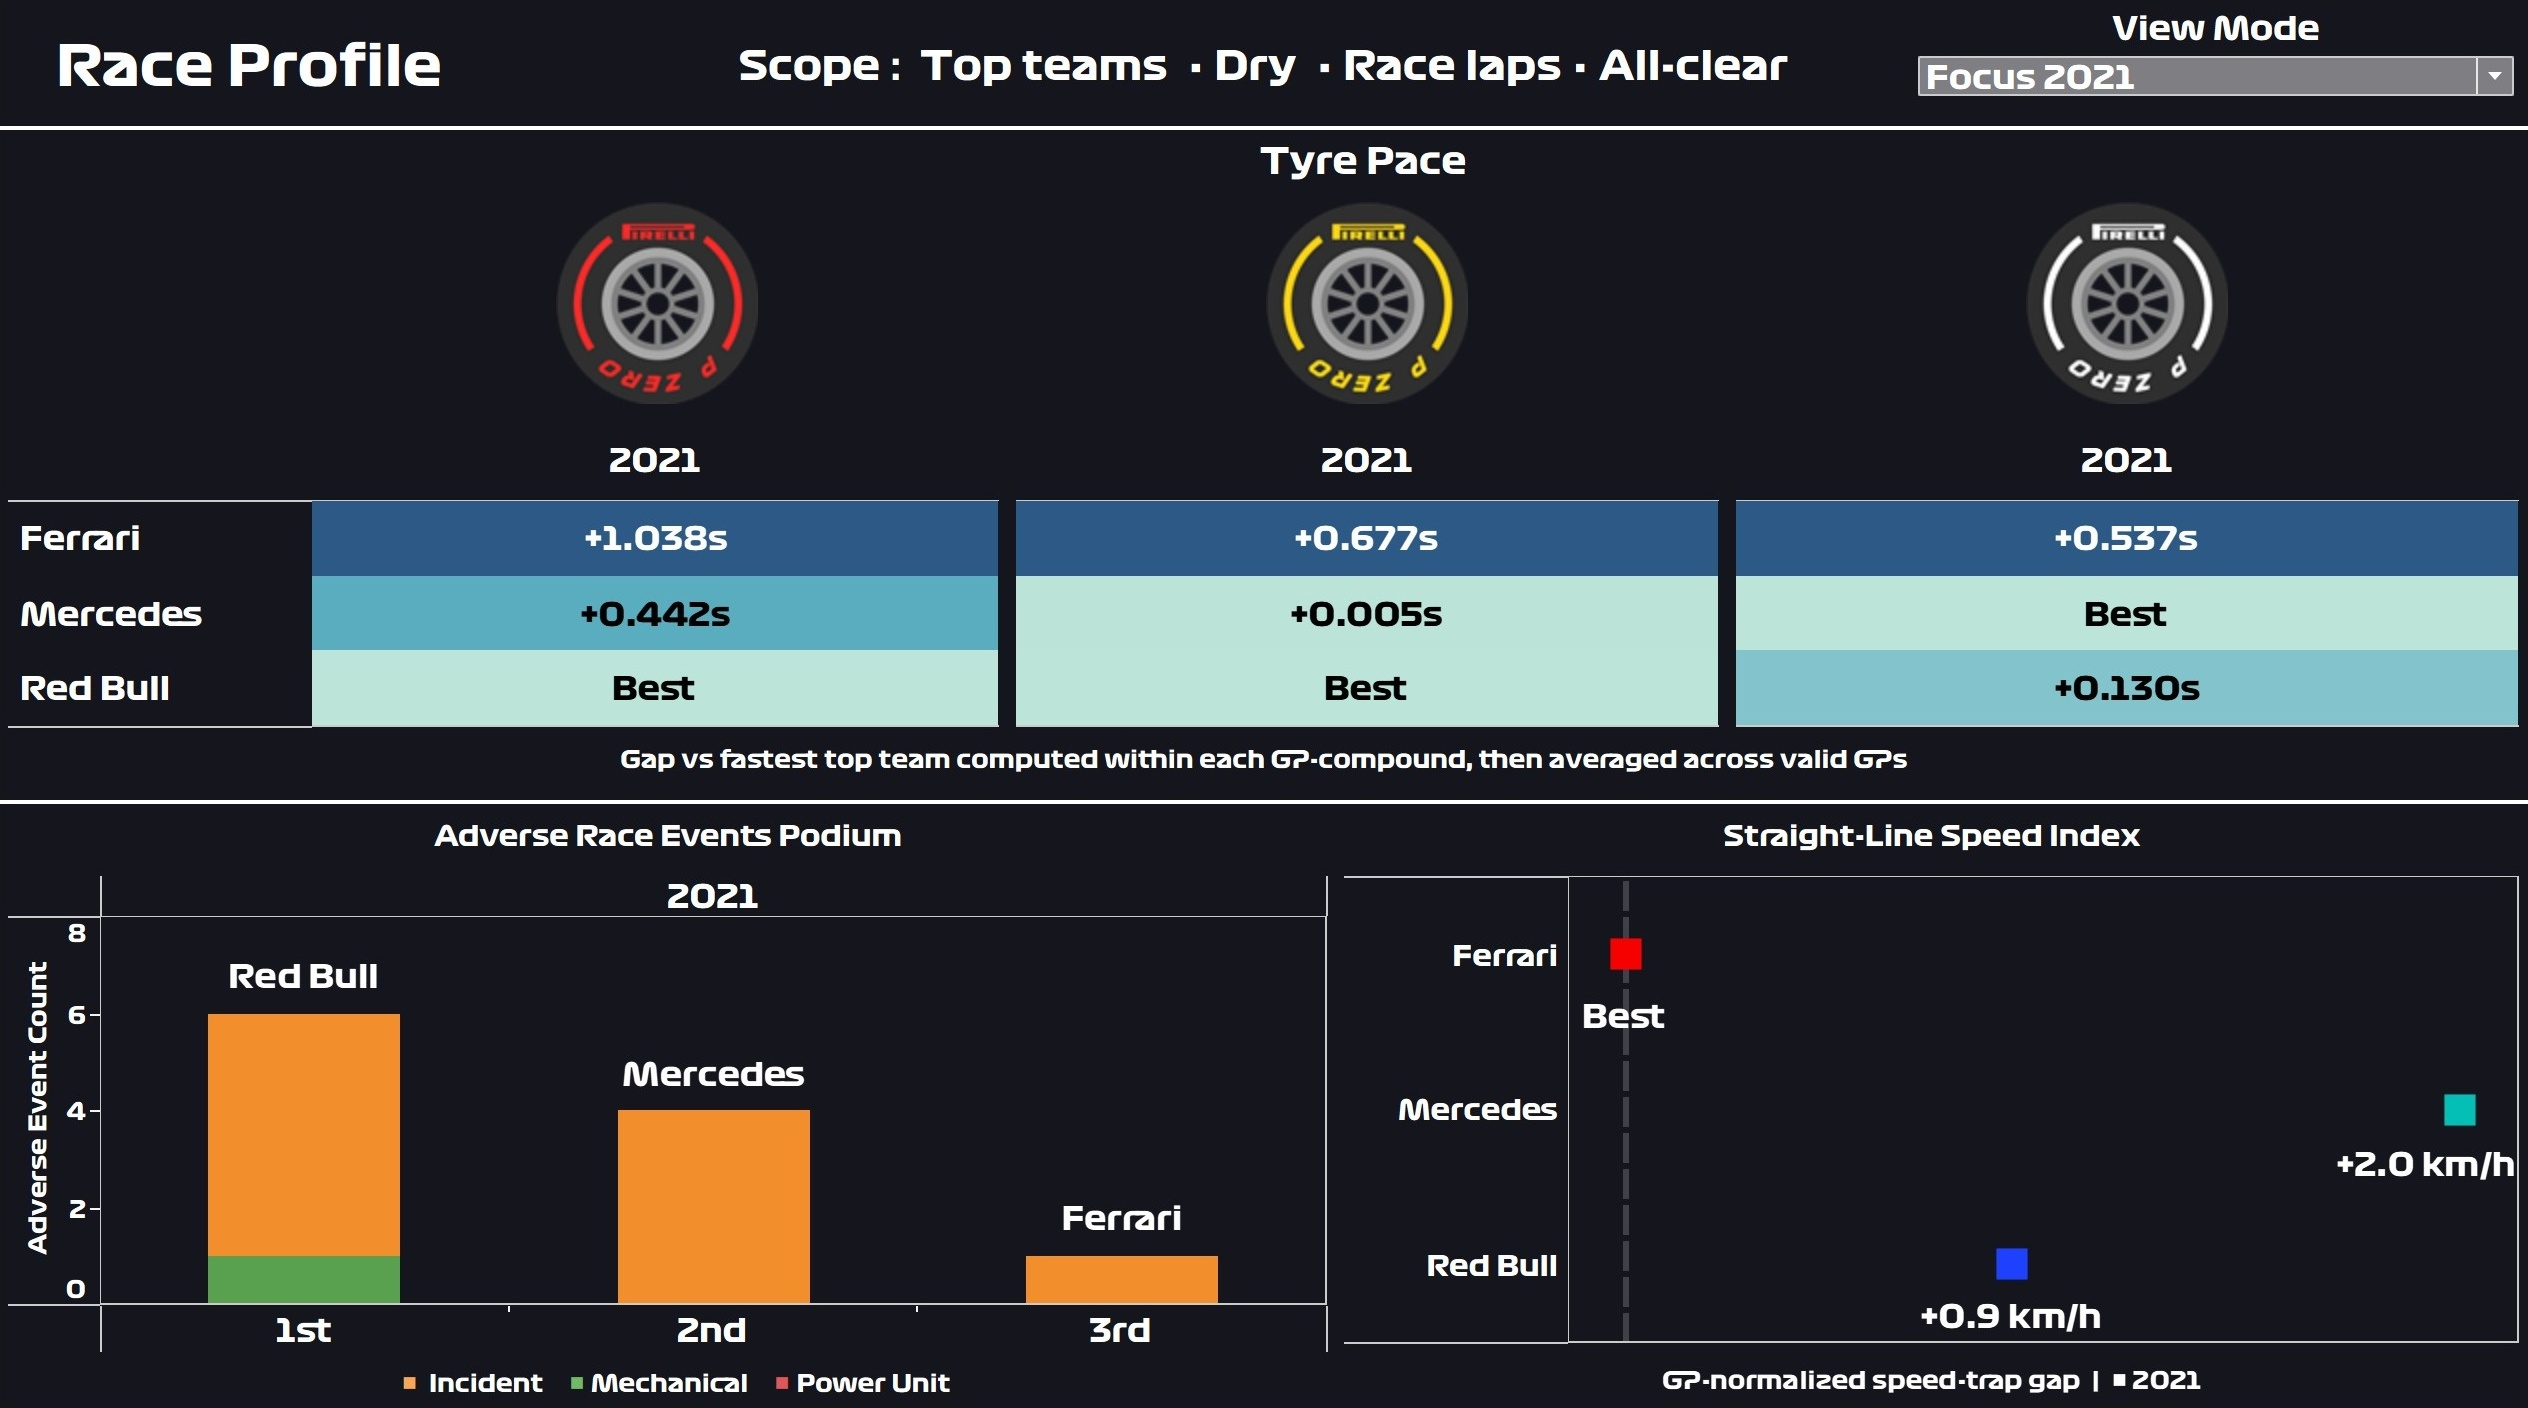

Layout of this report page (visuals, bound fields, positions):
{"tool":"tableau","page":{"name":"Compound & Speed","canvas":[1280,720],"ordinal":2},"visuals":[{"type":"text","box":[8,8,361,63]},{"type":"text","box":[369,8,591,63]},{"type":"parameter","param":"[Parameters].[Parameter 4]","box":[960,8,312,63]},{"type":"text","box":[8,73,1264,23]},{"type":"blank","box":[8,98,153,109]},{"type":"image","param":"Image/soft_tyre.png","box":[161,98,351,109]},{"type":"image","param":"Image/medium_tyre.png","box":[512,98,360,109]},{"type":"image","param":"Image/hard_tyre.png","box":[872,98,400,109]},{"type":"worksheet","title":"Tyre Pace — Soft","mark":"Square","rows":["team_name"],"cols":["season_year"],"box":[8,207,504,162]},{"type":"worksheet","title":"Tyre Pace — Medium","mark":"Square","rows":["team_name"],"cols":["season_year"],"box":[512,207,360,162]},{"type":"worksheet","title":"Tyre Pace — Hard","mark":"Square","rows":["team_name"],"cols":["season_year"],"box":[872,207,400,162]},{"type":"text","box":[8,369,1264,18]},{"type":"worksheet","title":"Adverse Race Events Podium","mark":"Text","rows":["Calculation_3198775210897408","Calculation_1434608050249745"],"cols":["season_year"],"box":[8,403,668,309]},{"type":"worksheet","title":"Straight-Line Speed Index","mark":"Line","rows":["team_name"],"box":[676,403,596,281]},{"type":"worksheet","title":"Speed Shape Legend","mark":"Automatic","box":[676,684,596,28]}]}

Visuals, with their boxes in screenshot pixels (x1, y1, x2, y2), scaled from the page's 1280x720 canvas onto the 2528x1408 screenshot:
text: rect(16, 16, 729, 139)
text: rect(729, 16, 1896, 139)
parameter: rect(1896, 16, 2512, 139)
text: rect(16, 143, 2512, 188)
blank: rect(16, 192, 318, 405)
image: rect(318, 192, 1011, 405)
image: rect(1011, 192, 1722, 405)
image: rect(1722, 192, 2512, 405)
"Tyre Pace — Soft" worksheet (Square marks): rect(16, 405, 1011, 722)
"Tyre Pace — Medium" worksheet (Square marks): rect(1011, 405, 1722, 722)
"Tyre Pace — Hard" worksheet (Square marks): rect(1722, 405, 2512, 722)
text: rect(16, 722, 2512, 757)
"Adverse Race Events Podium" worksheet (Text marks): rect(16, 788, 1335, 1392)
"Straight-Line Speed Index" worksheet (Line marks): rect(1335, 788, 2512, 1338)
"Speed Shape Legend" worksheet: rect(1335, 1338, 2512, 1392)
